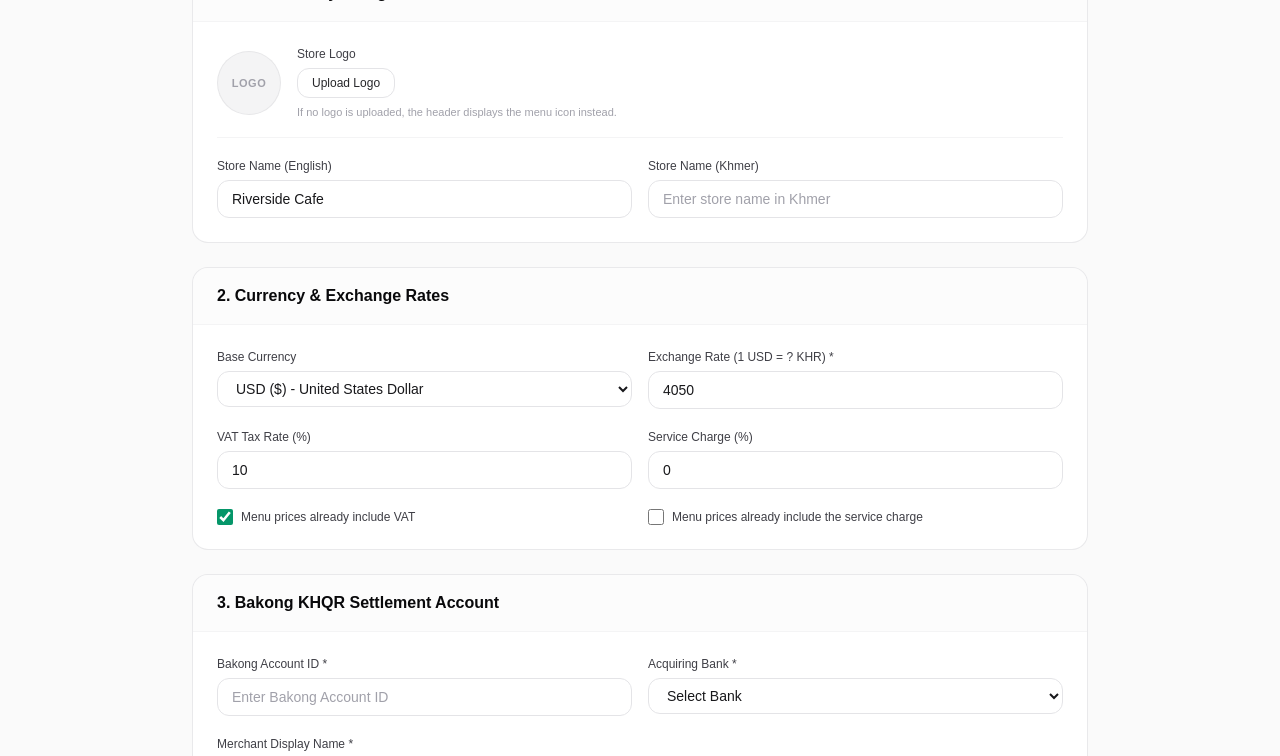
Scenario: StoreSettingsTab › starts from the saved settings and saves changes to the business
Expected: the field showing "10" below "VAT Tax Rate (%)" is shown, x1=217 y1=450 x2=632 y2=488
Replace the text in the field showing "4050" below "Exchange Rate (1 USD = ? KHR)" with "4100" at (856, 390), box x1=648 y1=370 x2=1063 y2=408
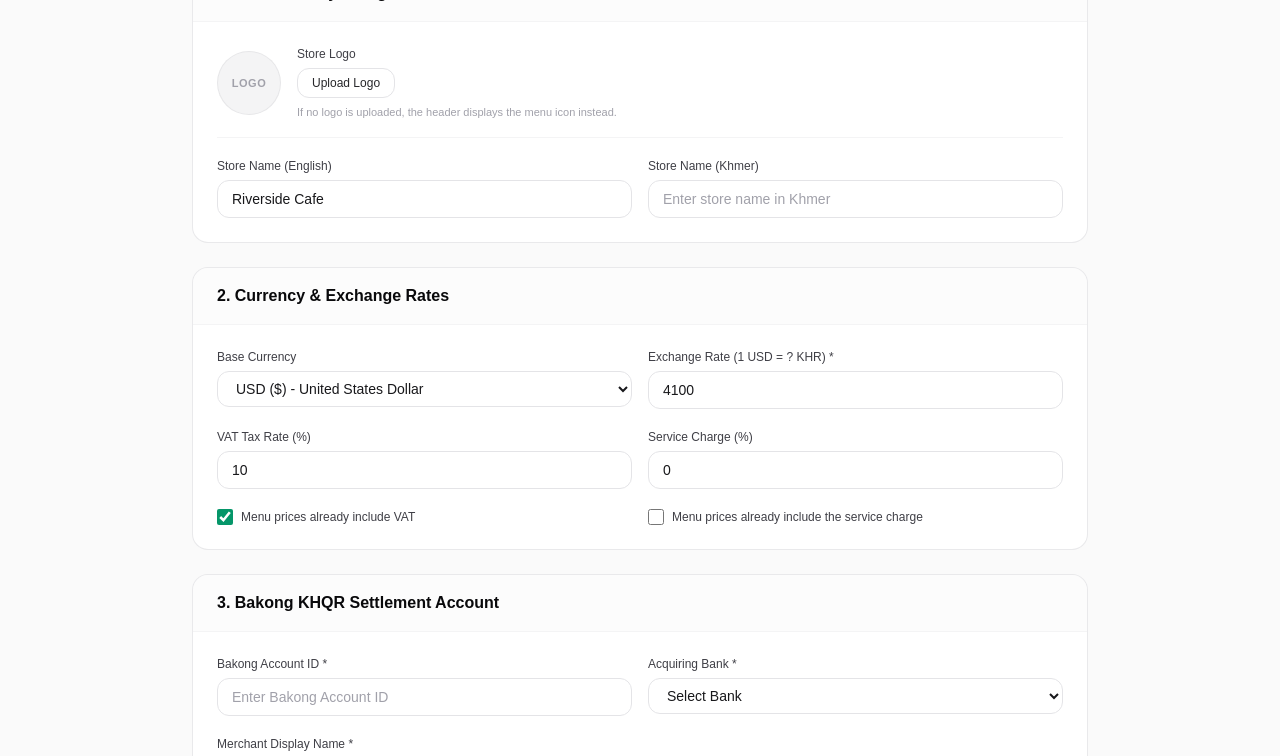
Type "riverside_cafe@abaa" into the field with placeholder "Enter Bakong Account ID".
click(424, 696); type("riverside_cafe@abaa")  # box x1=217 y1=678 x2=632 y2=716
(page scrolled)
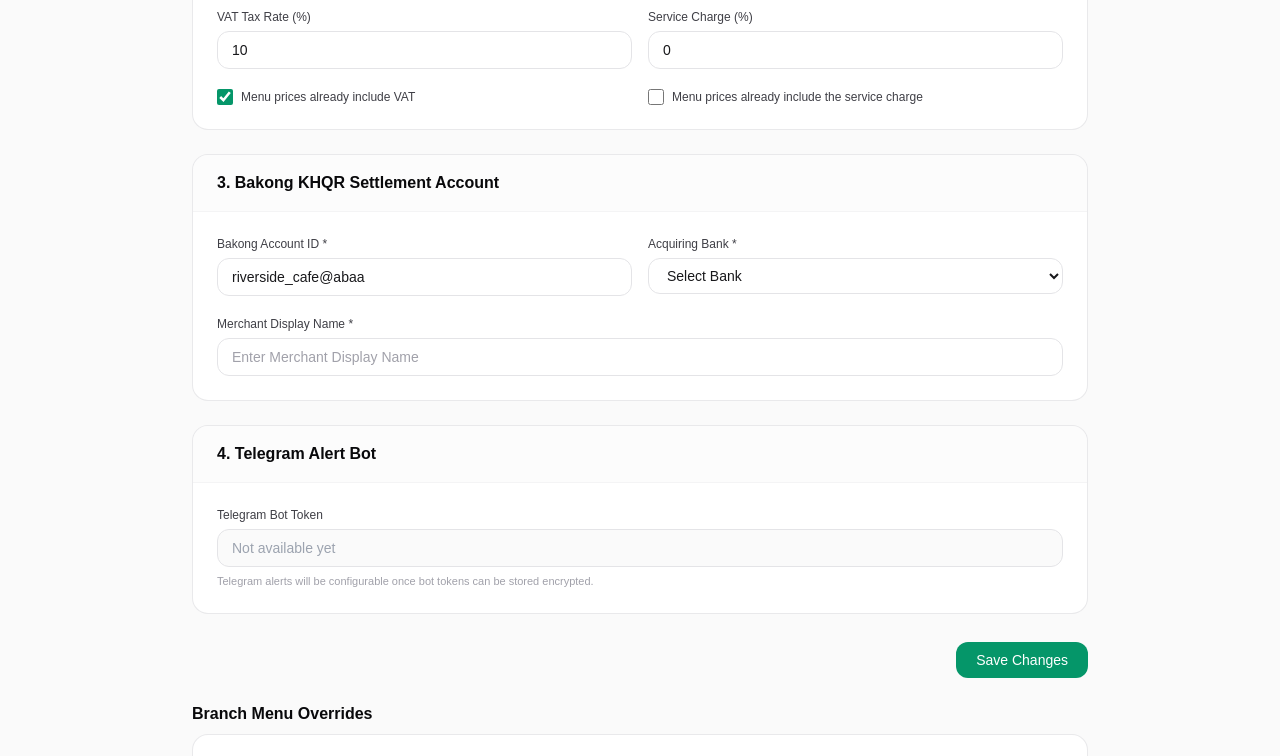
Type "Riverside Cafe" into the field with placeholder "Enter Merchant Display Name".
click(640, 356); type("Riverside Cafe")  # box x1=217 y1=338 x2=1063 y2=376
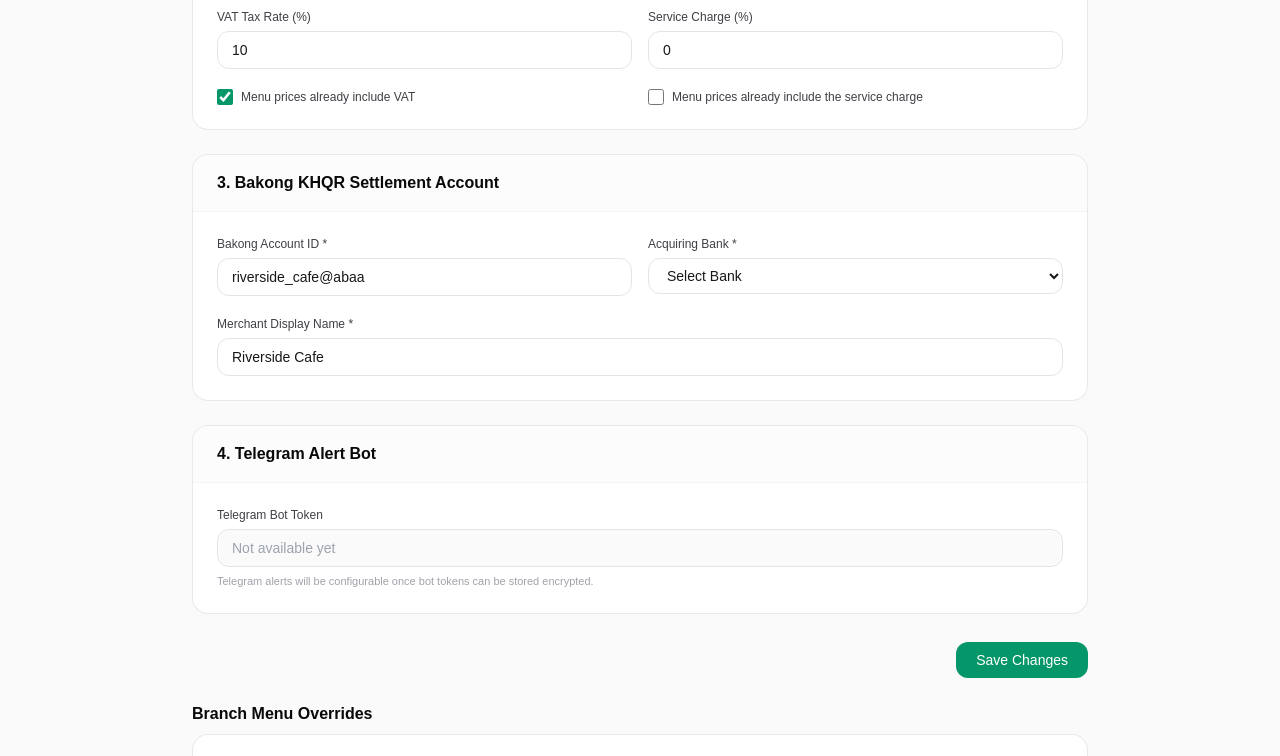
Click the button "Save Changes".
click(1022, 660)  # box x1=956 y1=642 x2=1088 y2=678
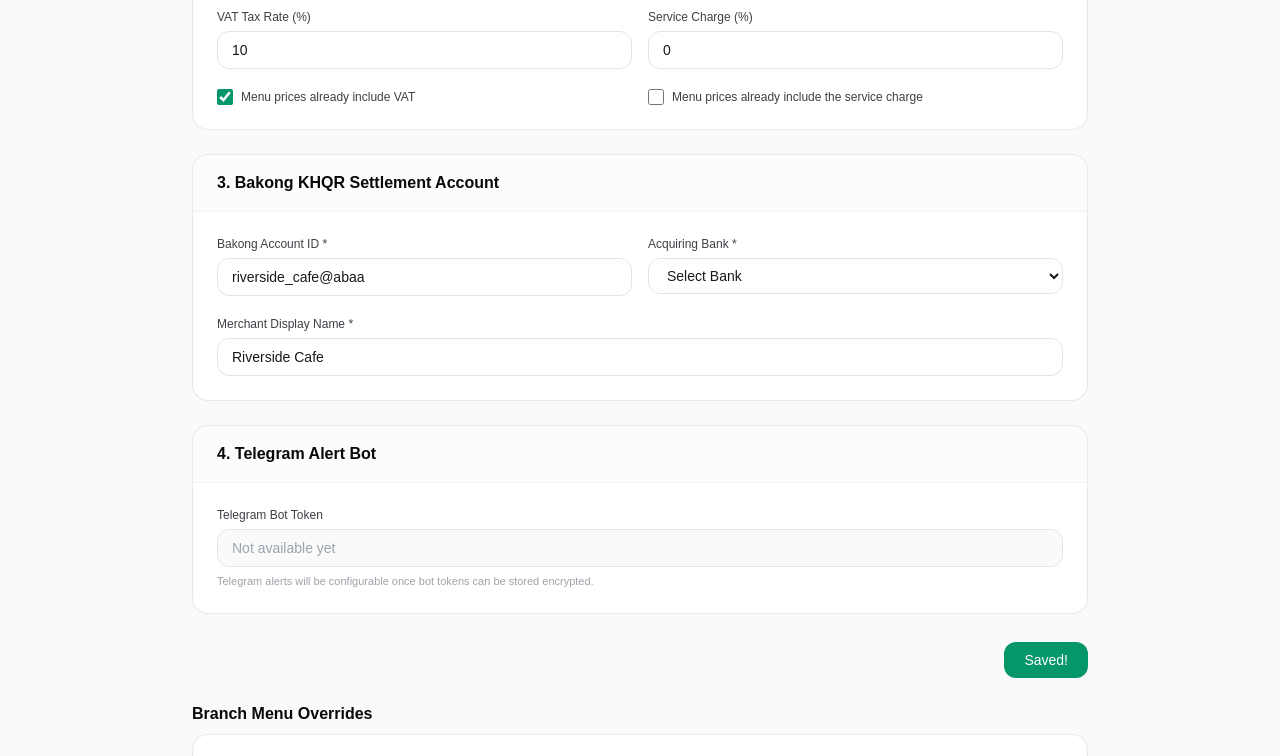
Expected: the button "Saved!" is shown, x1=1004 y1=642 x2=1088 y2=678
